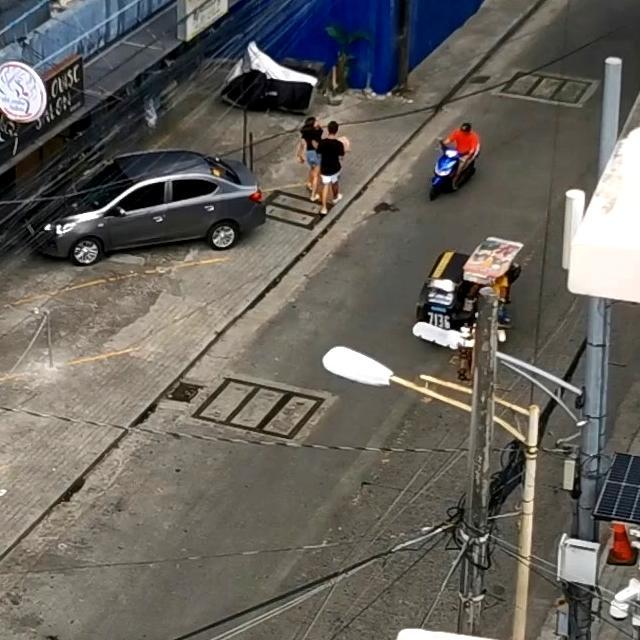Car: (26, 150, 252, 262)
